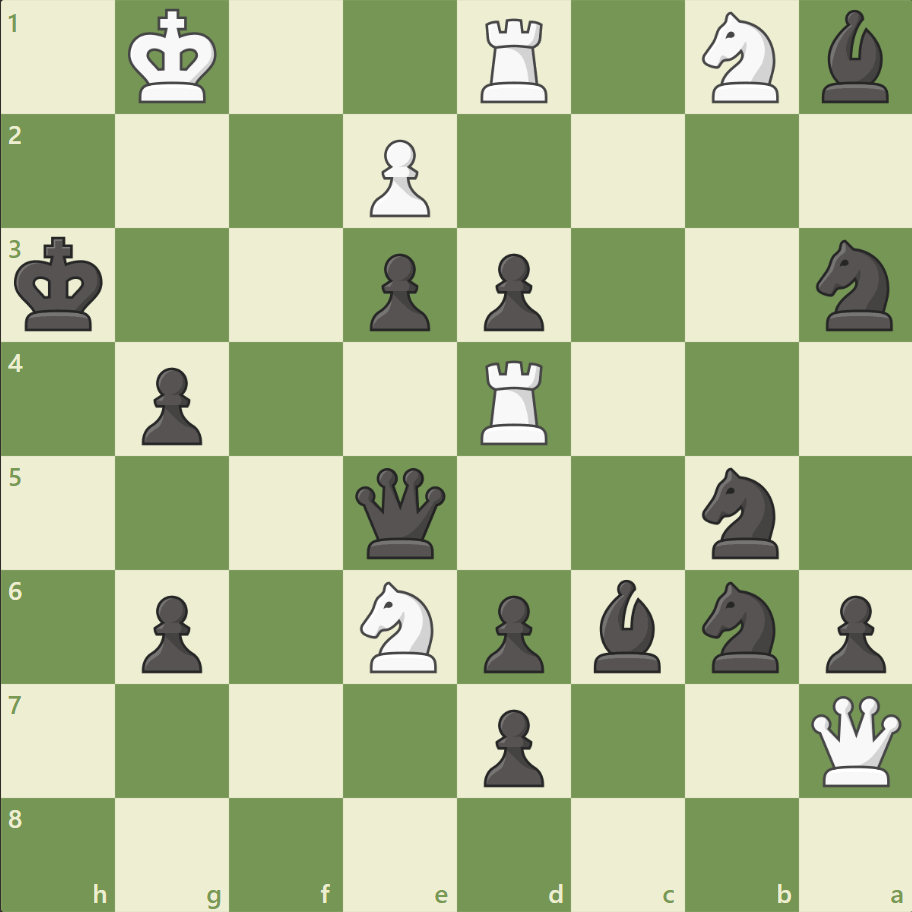K: (124, 4, 224, 112)
N: (351, 575, 449, 677), (692, 7, 789, 110)
P: (361, 132, 435, 223)
Q: (805, 690, 904, 789)
R: (473, 352, 556, 449), (473, 12, 556, 109)
b: (812, 6, 896, 109), (585, 574, 669, 676)
k: (11, 231, 111, 339)
n: (692, 461, 789, 564), (806, 234, 903, 337), (692, 575, 789, 677)
p: (474, 700, 549, 791), (474, 586, 549, 677), (133, 586, 208, 677), (133, 359, 208, 450), (474, 246, 549, 337), (815, 586, 889, 677), (361, 246, 435, 337)
q: (351, 463, 450, 562)
